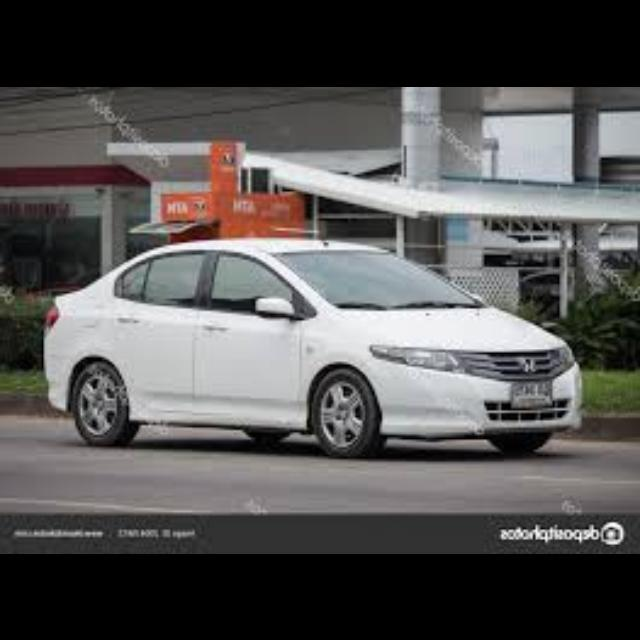vehicles: (36, 217, 596, 463)
